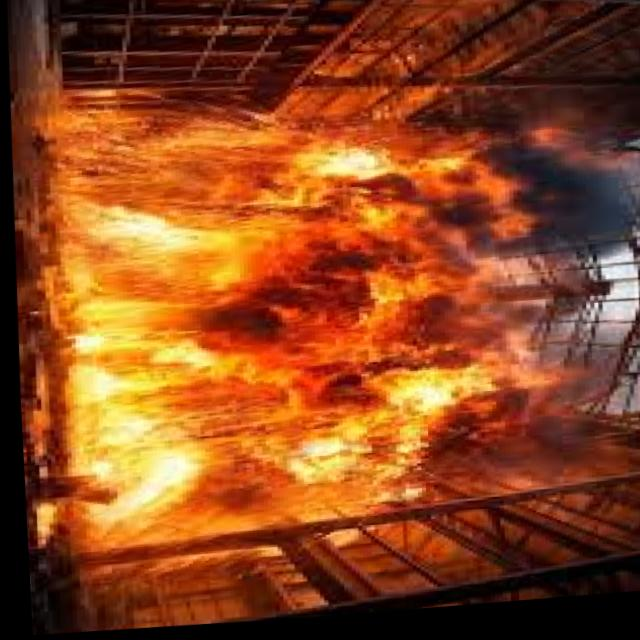Fire: (36, 79, 595, 577)
